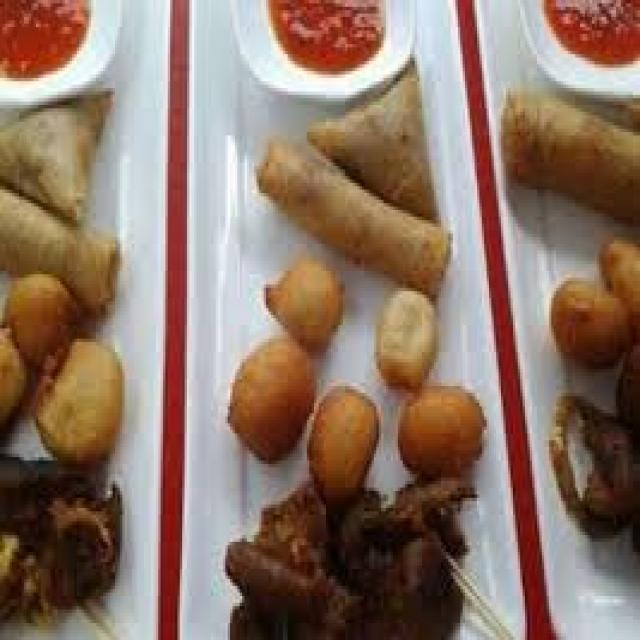Samosa: (310, 54, 444, 210), (1, 94, 116, 198)
Spring Rolls: (254, 129, 451, 291), (498, 78, 638, 210), (0, 172, 128, 310)
